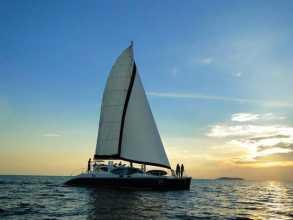fanchuan: (64, 42, 191, 189)
